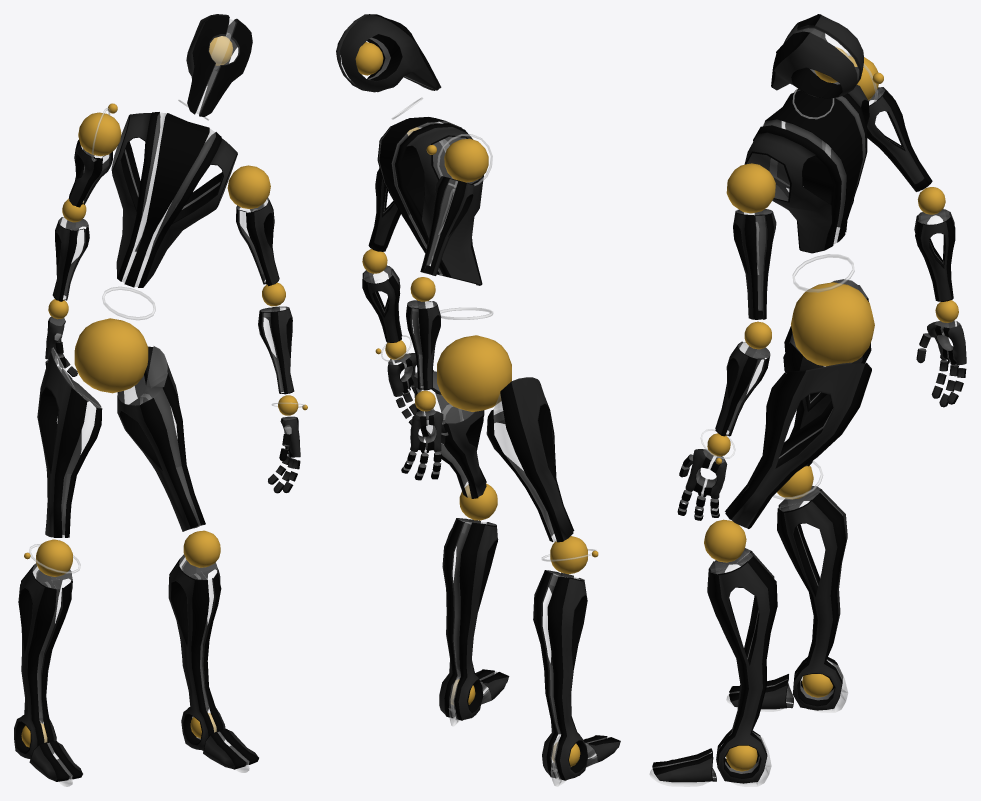
The model's file is Statue 1.fbx.
3 views of the same model, side by side, from view 1: azimuth 30°, elevation 25°; view 2: azimuth 150°, elevation 25°; view 3: azimuth 270°, elevation 25° (orthographic). The views are drawn at different scales.
Visible parts, largest first — view 1: Torso V2.001; view 2: Torso V2.001; view 3: Torso V2.001.
Part boxes in pixels (box(x1,y1,x2,y2)): Torso V2.001: box(14, 14, 307, 786); Torso V2.001: box(336, 14, 620, 786); Torso V2.001: box(649, 14, 966, 786).
Bounding box in the file's own units: 0.6378 × 1.71 × 0.6182.
